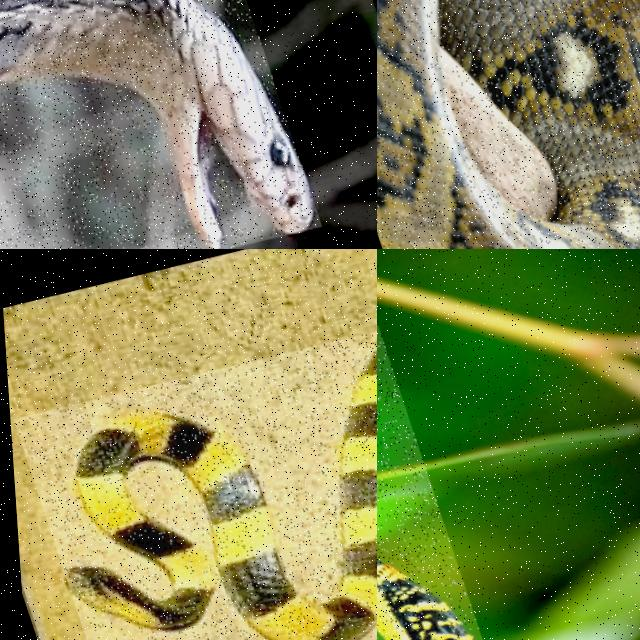Bungarus fasciatus: (66, 350, 376, 639)
Chrysopelea ornata: (377, 558, 472, 639)
Malayopython reticulatus: (377, 0, 639, 248)
Naja kaouthia: (0, 0, 311, 248)
snake: (66, 350, 376, 639), (0, 0, 311, 248), (377, 0, 639, 248), (377, 558, 472, 639)
